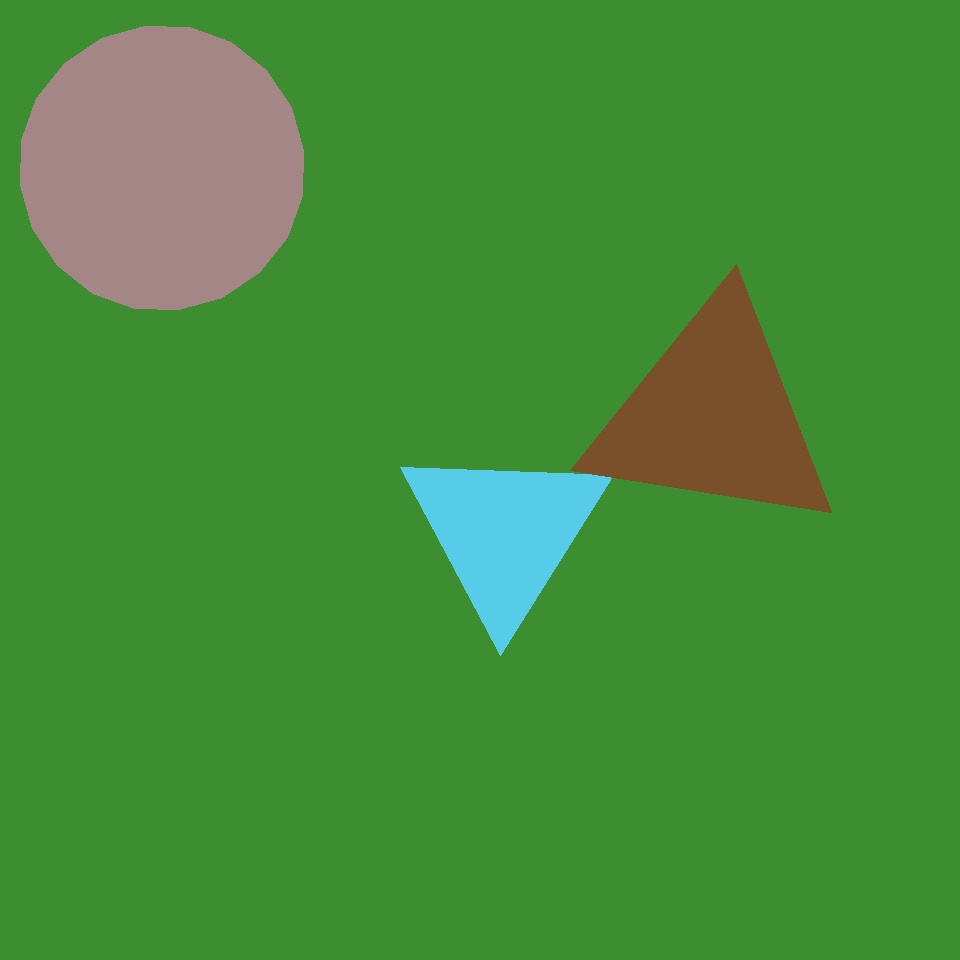circle: (582, 292, 844, 540), (398, 439, 612, 627)
square: (546, 260, 905, 619), (418, 416, 565, 564)
triangle: (103, 218, 443, 558), (21, 26, 304, 310)
